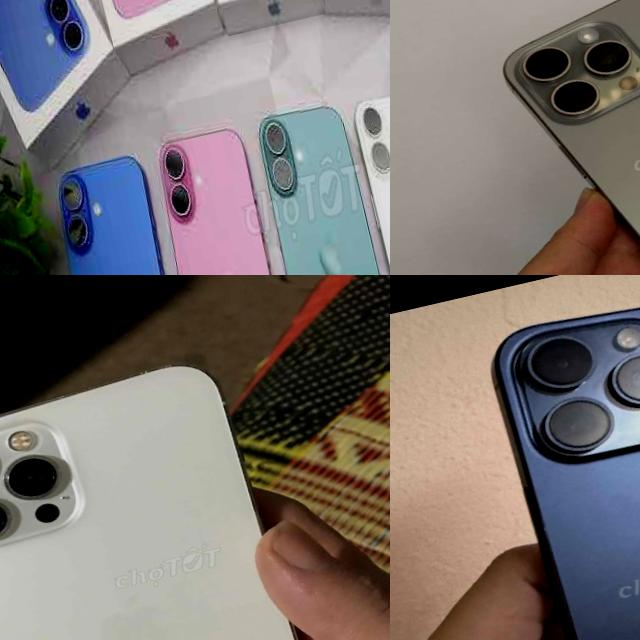gen_12_13: (0, 341, 373, 640)
gen_15: (469, 275, 640, 640), (476, 0, 640, 275)
gen_16: (135, 115, 315, 275)
